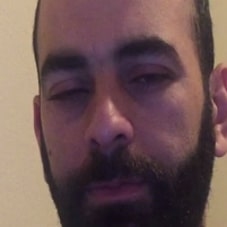drowsy: (40, 37, 189, 217)
